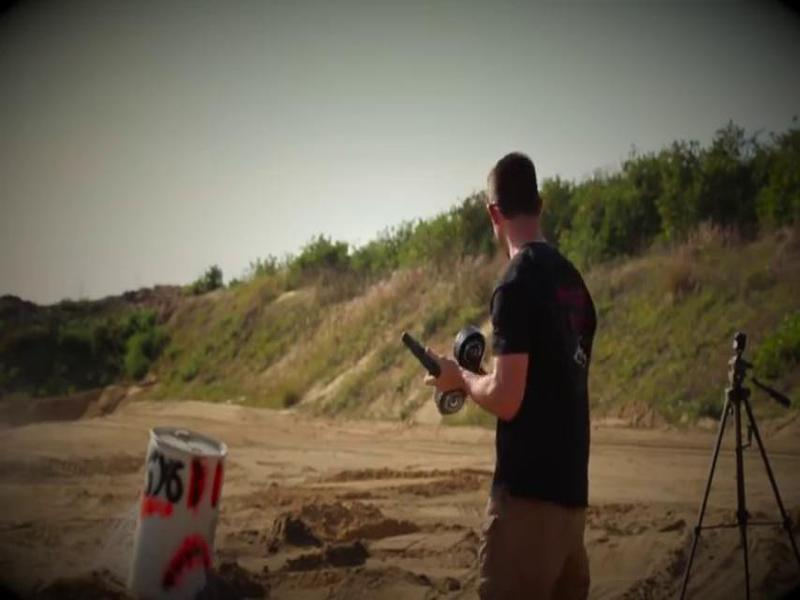Pistola: (383, 328, 465, 395)
